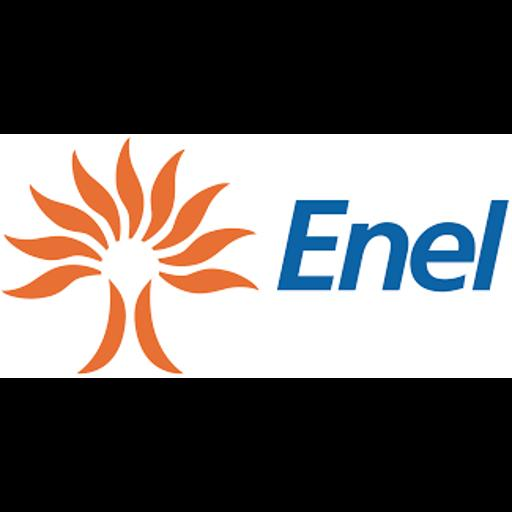Enel Energia S-p-A: (0, 134, 512, 378)
